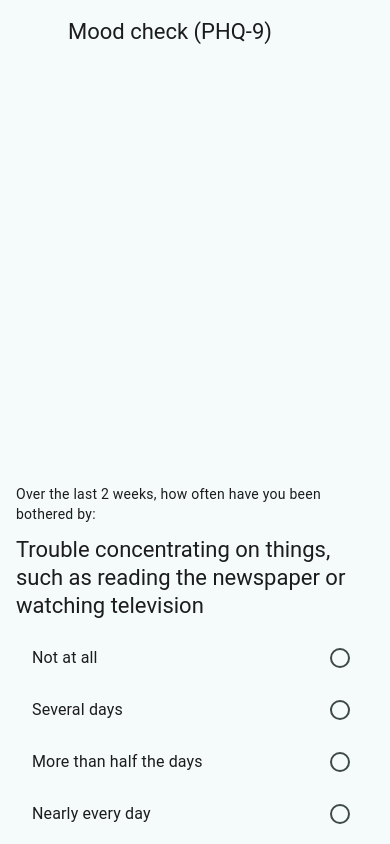
shows the safety message when the self-harm question is answered
The image size is (390, 844).
Earlier steps of the test are not shown.
(page scrolled)
Click the radio button labelled "Not at all".
click(65, 658)  # box [32,648,350,668]
(page scrolled)
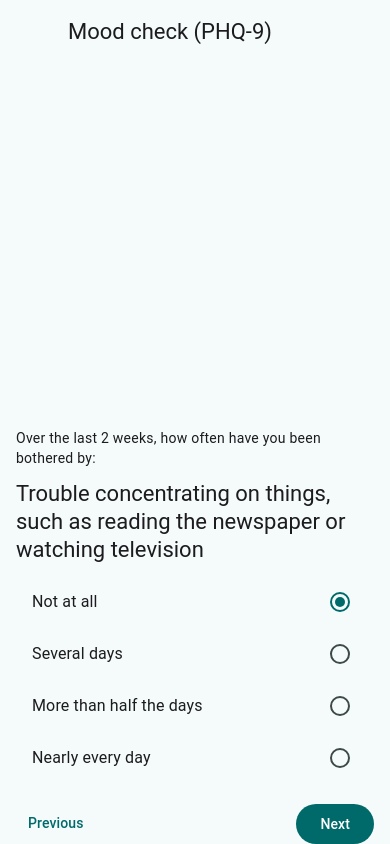
Click the button with test id "next-button".
click(335, 824)  # box [296,804,374,843]
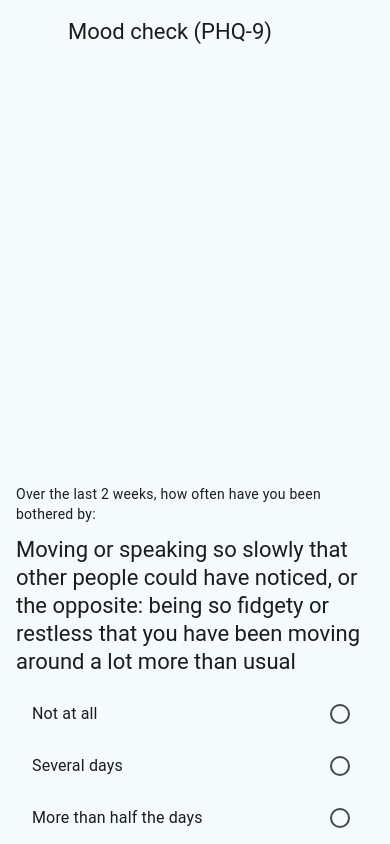
Click the radio button labelled "Not at all".
click(65, 714)  # box [32,704,350,724]
(page scrolled)
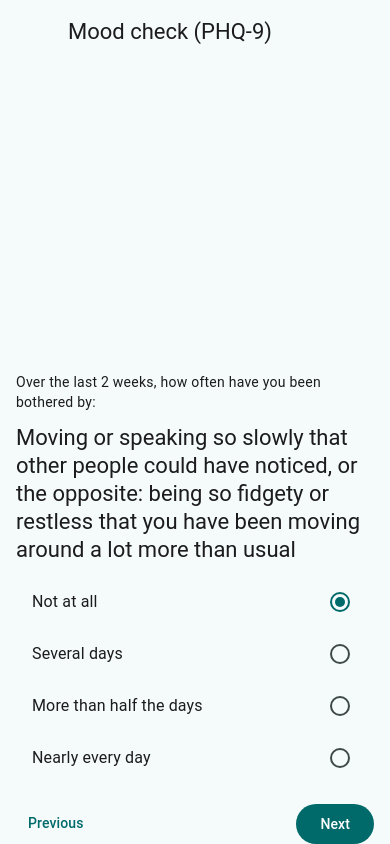
Click the button with test id "next-button".
click(335, 824)  # box [296,804,374,843]
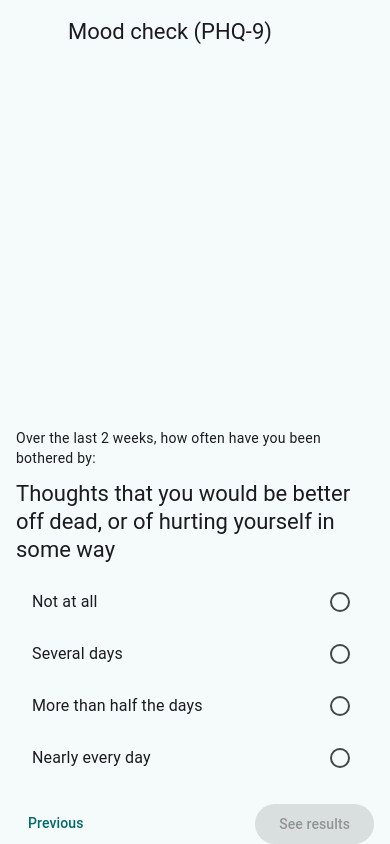
Click the radio button labelled "Several days".
click(77, 654)  # box [32,644,350,664]
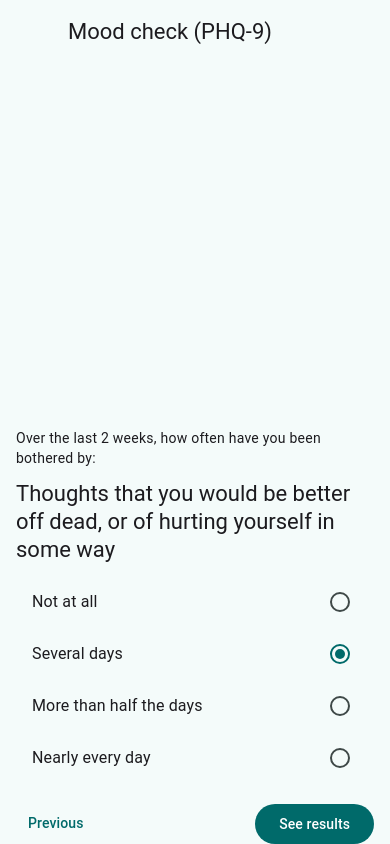
Click the button with test id "next-button".
click(315, 824)  # box [255,804,374,843]
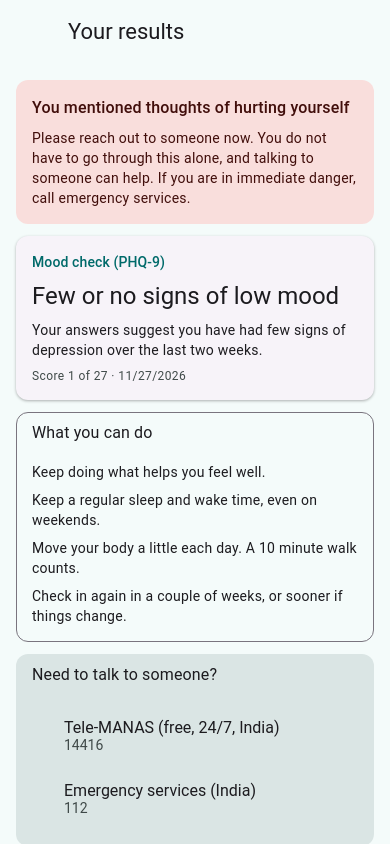
Expected: the element with test id "result-view" is shown
Expected: the element with test id "safety-card" is shown, [16,80,374,224]
Expected: the text "14416" is shown, [64,737,103,753]
